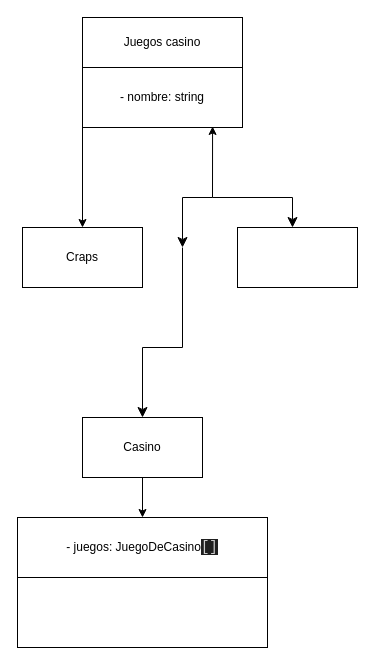
The diagram is 375 pixels wide and 665 high, and some of its shapes have lost their labels. The shapes that lost their labels are listed below. From the top down, each one's centre as x and y in pixels, then its label:
the point at 297,257: Tragamonedas
the point at 142,612: + agregarJuego(juego: JuegoDeCasino): void + JugarTodos(): void
